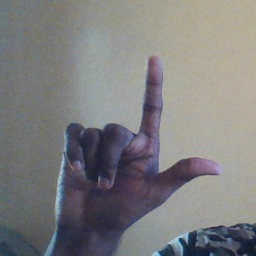L: (54, 54, 225, 226)
